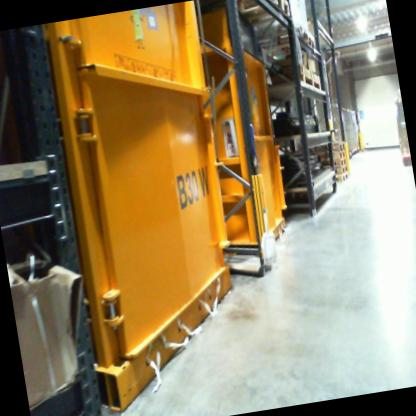pallet: (202, 0, 300, 35), (244, 21, 319, 60), (270, 69, 328, 97), (310, 142, 347, 163), (314, 159, 350, 178), (310, 137, 348, 154), (313, 154, 347, 171), (328, 169, 352, 187)
